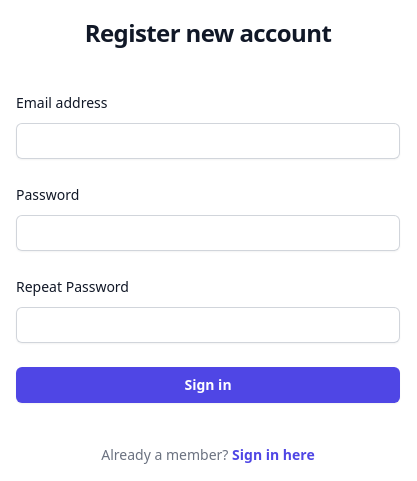
Test: Register › clicking sign in link should navigate to login page
Click the link "Sign in here" at (273, 454), box [232,445,315,464]
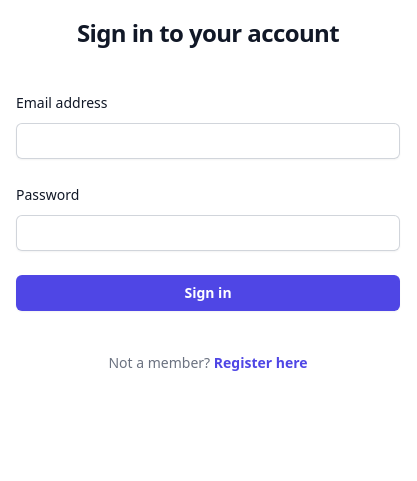
Check: the heading "Sign in to your account" is shown, box [77,16,339,49]
